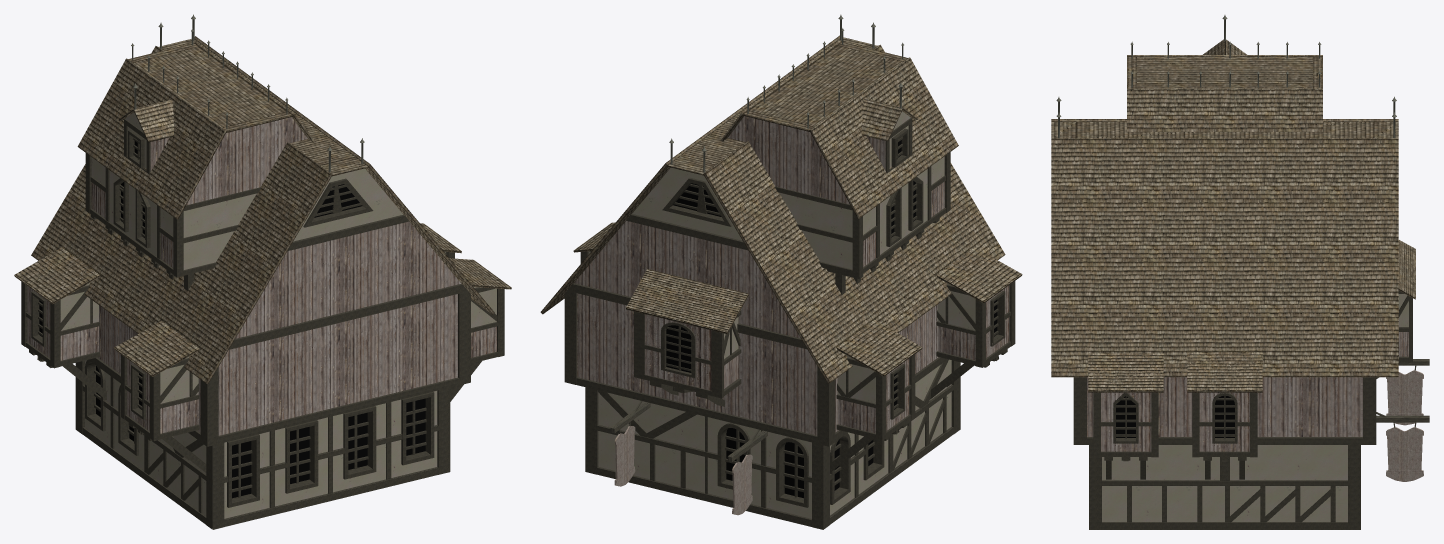
The model's file is tavern.glb.
3 renders of one model, left to right at view 1: azimuth 30°, elevation 25°; view 2: azimuth 150°, elevation 25°; view 3: azimuth 270°, elevation 25°, orthographic.
Visible parts, largest first — view 1: node_304_013, node_304_015, node_304_009, node_304_011, node_304_017, node_304_018, node_304_014, node_304_004, node_304_016, node_304_008, node_304_019, node_304_005 (+6 smaller); view 2: node_304_015, node_304_013, node_304_009, node_304_021, node_304_018, node_304_017, node_304_011, node_304_014, node_304_008, node_304_004, node_304_019, node_304_016 (+9 smaller); view 3: node_304_015, node_304_009, node_304_018, node_304_013, node_304_016, node_304_014, node_304_004, node_304_012, node_304_017, node_304_011, Cube606_002, node_304_021 (+4 smaller).
Boxes of the visible parts, left/top/right/bottom form: node_304_013: left=98, top=221, right=460, bottom=435; node_304_015: left=31, top=39, right=491, bottom=382; node_304_009: left=77, top=41, right=315, bottom=219; node_304_011: left=85, top=359, right=434, bottom=513; node_304_017: left=89, top=178, right=470, bottom=446; node_304_018: left=85, top=360, right=437, bottom=520; node_304_014: left=75, top=360, right=450, bottom=529; node_304_004: left=21, top=251, right=504, bottom=472; node_304_016: left=14, top=223, right=511, bottom=376; node_304_008: left=85, top=118, right=260, bottom=290; node_304_019: left=91, top=117, right=307, bottom=267; node_304_005: left=91, top=112, right=256, bottom=269; node_304_015: left=543, top=37, right=1005, bottom=382; node_304_013: left=574, top=221, right=938, bottom=435; node_304_009: left=720, top=40, right=958, bottom=218; node_304_021: left=626, top=269, right=748, bottom=406; node_304_018: left=598, top=359, right=951, bottom=518; node_304_017: left=564, top=178, right=947, bottom=446; node_304_011: left=597, top=359, right=948, bottom=508; node_304_014: left=585, top=360, right=960, bottom=529; node_304_008: left=775, top=117, right=950, bottom=294; node_304_004: left=580, top=251, right=1015, bottom=472; node_304_019: left=728, top=116, right=944, bottom=267; node_304_016: left=573, top=222, right=1022, bottom=376; node_304_015: left=1051, top=122, right=1398, bottom=376; node_304_009: left=1127, top=39, right=1322, bottom=131; node_304_018: left=1102, top=445, right=1347, bottom=521; node_304_013: left=1087, top=377, right=1362, bottom=436; node_304_016: left=1088, top=351, right=1262, bottom=392; node_304_014: left=1089, top=445, right=1360, bottom=529; node_304_004: left=1093, top=392, right=1257, bottom=479; node_304_012: left=1101, top=392, right=1249, bottom=451; node_304_017: left=1073, top=377, right=1376, bottom=444; node_304_011: left=1127, top=457, right=1335, bottom=522; Cube606_002: left=1376, top=412, right=1429, bottom=481; node_304_021: left=1376, top=240, right=1415, bottom=378.
Bounding box in the file's own units: 8 × 8.48 × 7.33.
Materials: 20 (20 with a texture image).
